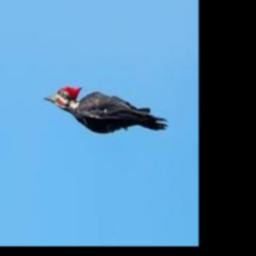Woodpecker: (45, 85, 169, 134)
